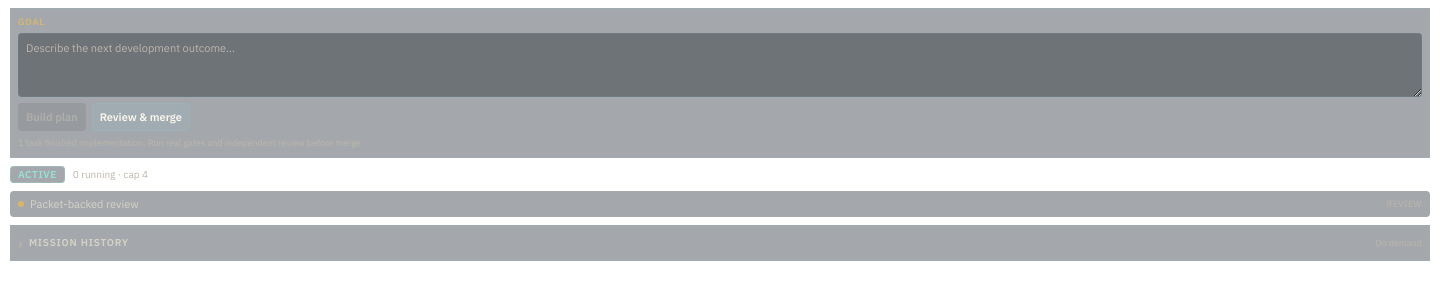
Test: OrchestratorPanel › surfaces the immutable Mission completion packet returned by settlement
The image size is (1440, 296).
Check: the text "Packet-backed review" is shown, box top-left (30, 197), bottom-right (139, 211)
Click the button "Review & merge".
click(141, 117)  # box top-left (92, 103), bottom-right (190, 131)
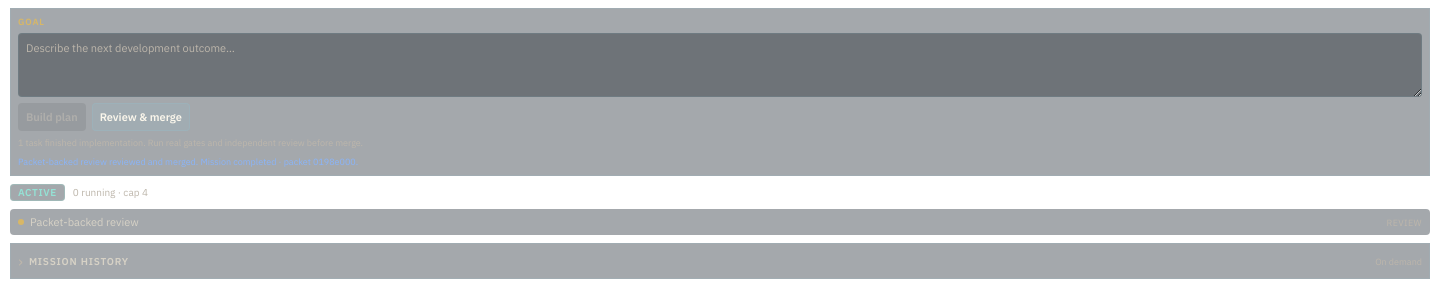
Check: the text "Packet-backed review reviewed and merged. Mission completed · packet 0198e000." is shown, box top-left (18, 156), bottom-right (358, 167)
